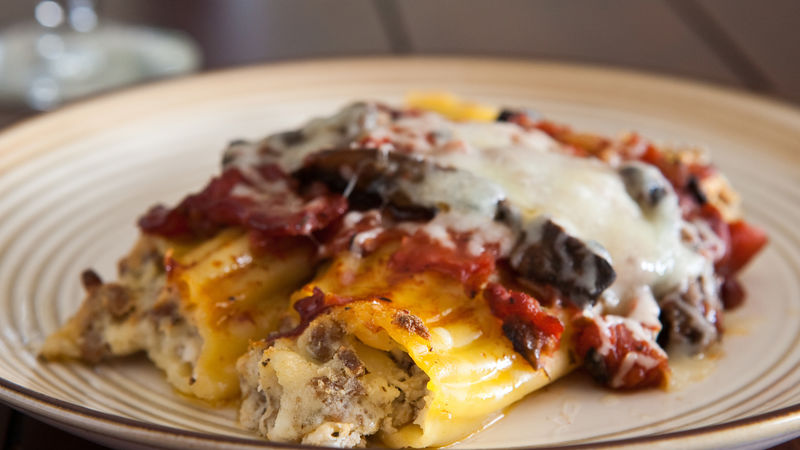ground_beef: (289, 94, 647, 281)
